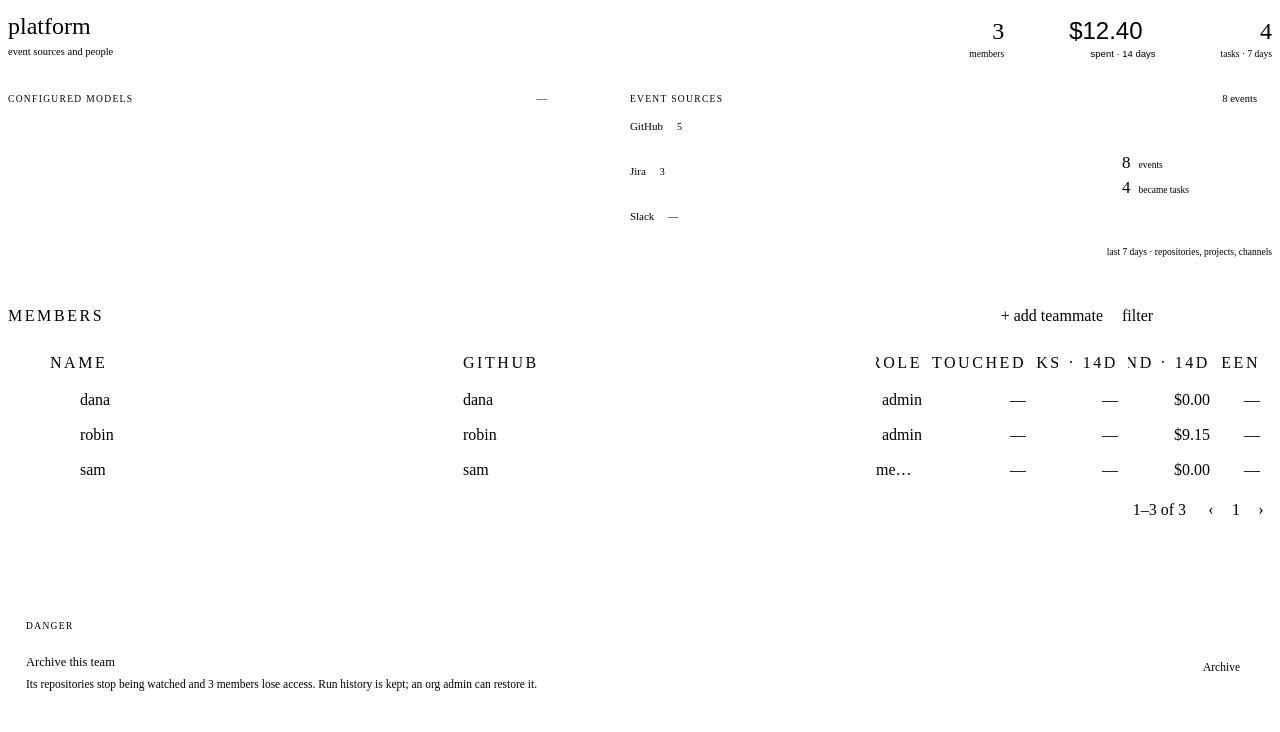
Test: the last admin › counts admins over the whole roster, not the rows the filter left showing
The image size is (1280, 732).
Check: the number of rows with class "tb-row" is 3, box [80,391,1260,408]; [80,426,1260,443]; [80,461,1260,478]
Type "robin" into the field named "Filter members" at (1197, 316), box [1122,307,1272,325]
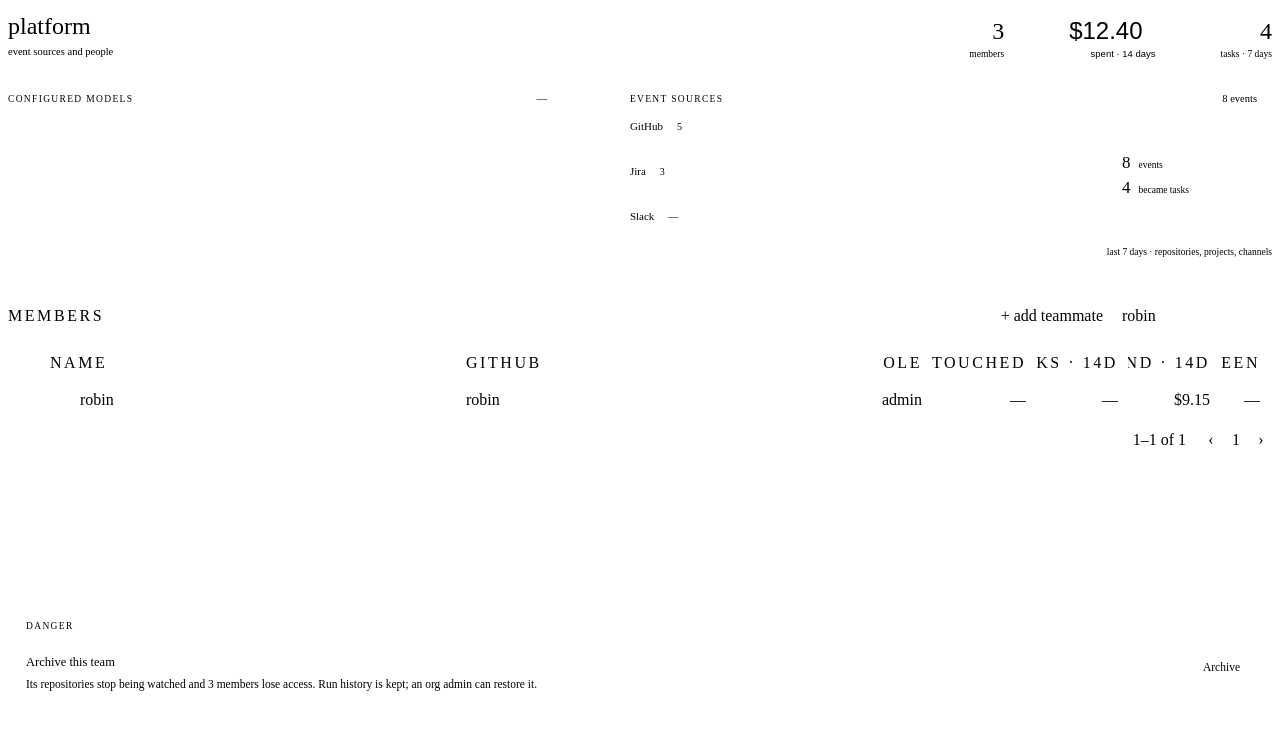
Check: the number of rows with class "tb-row" is 1
Click the row with class "tb-row" at (97, 400), box [80,391,1260,408]
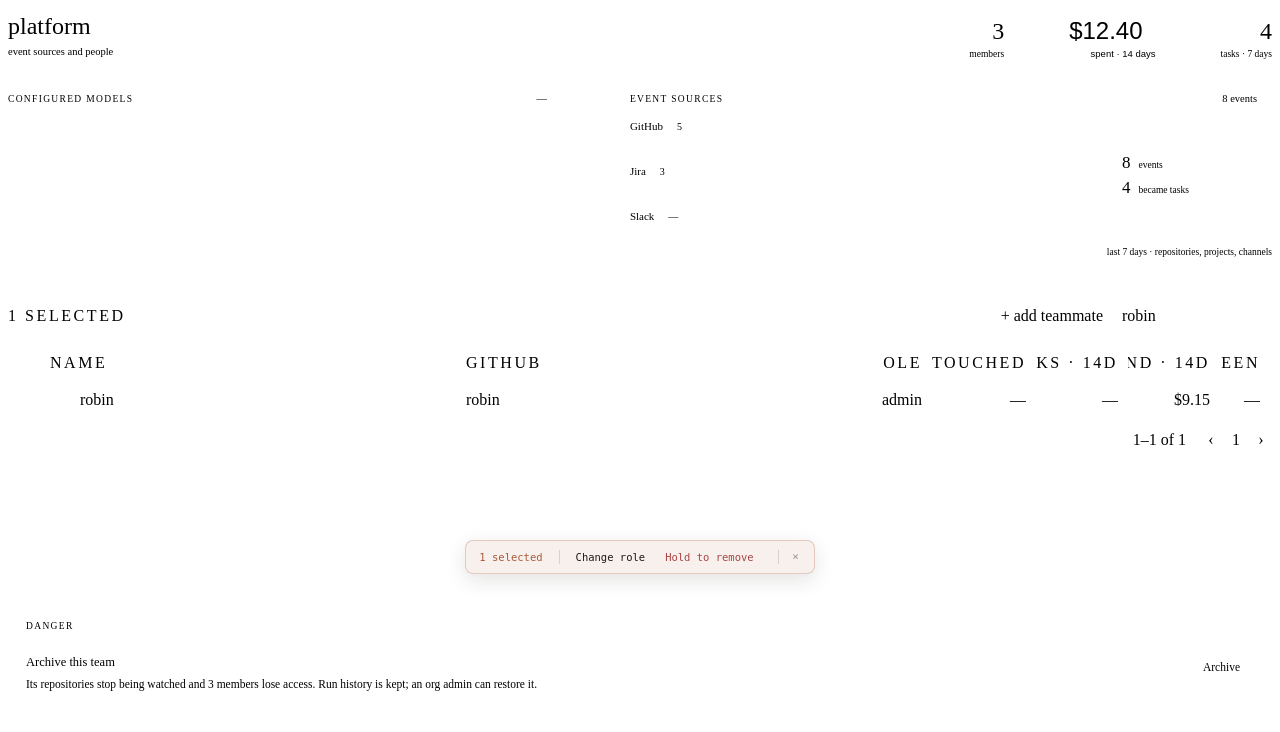
Check: the text with class "selbar-count" reads "1 selected", box [479,551,543,563]
Check: the button "Hold to remove" is shown, box [665,551,754,563]
